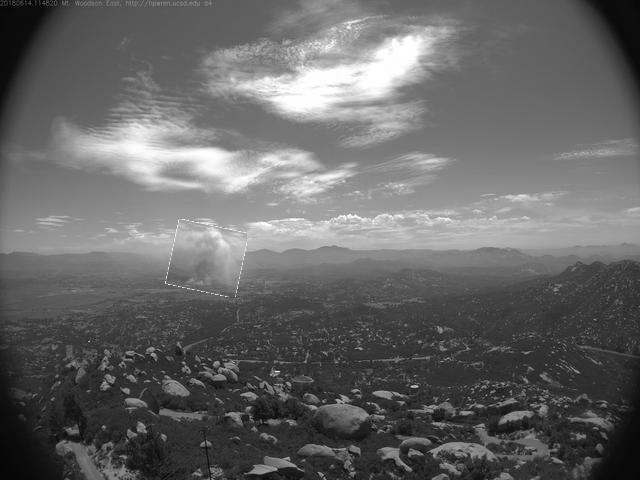smoke: (169, 224, 246, 296)
